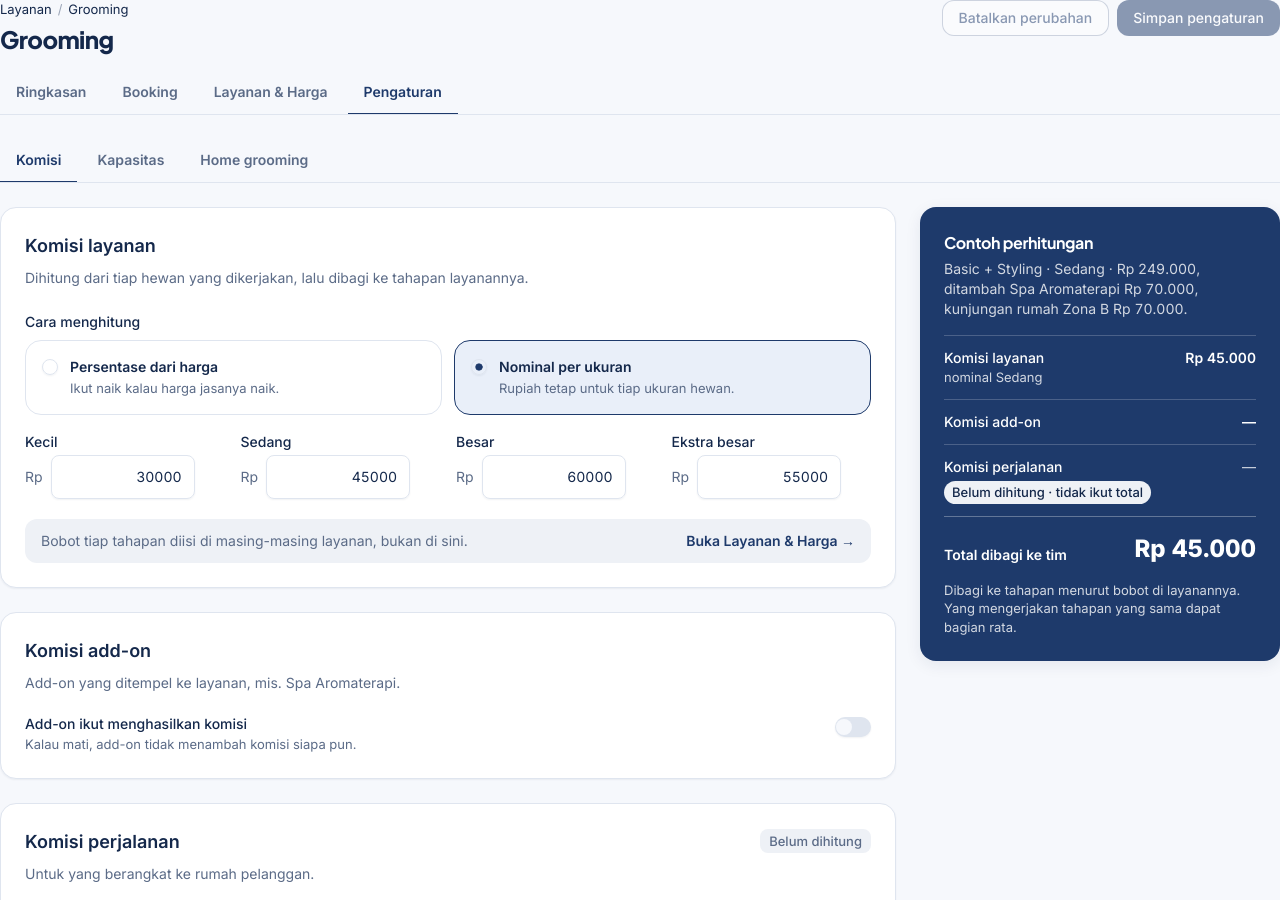
Test: GroomingSettingsScreen — Home grooming › points at the zone page when there is no zone yet
Click the tab "Home grooming" at (254, 161), box top-left (184, 139), bottom-right (324, 183)
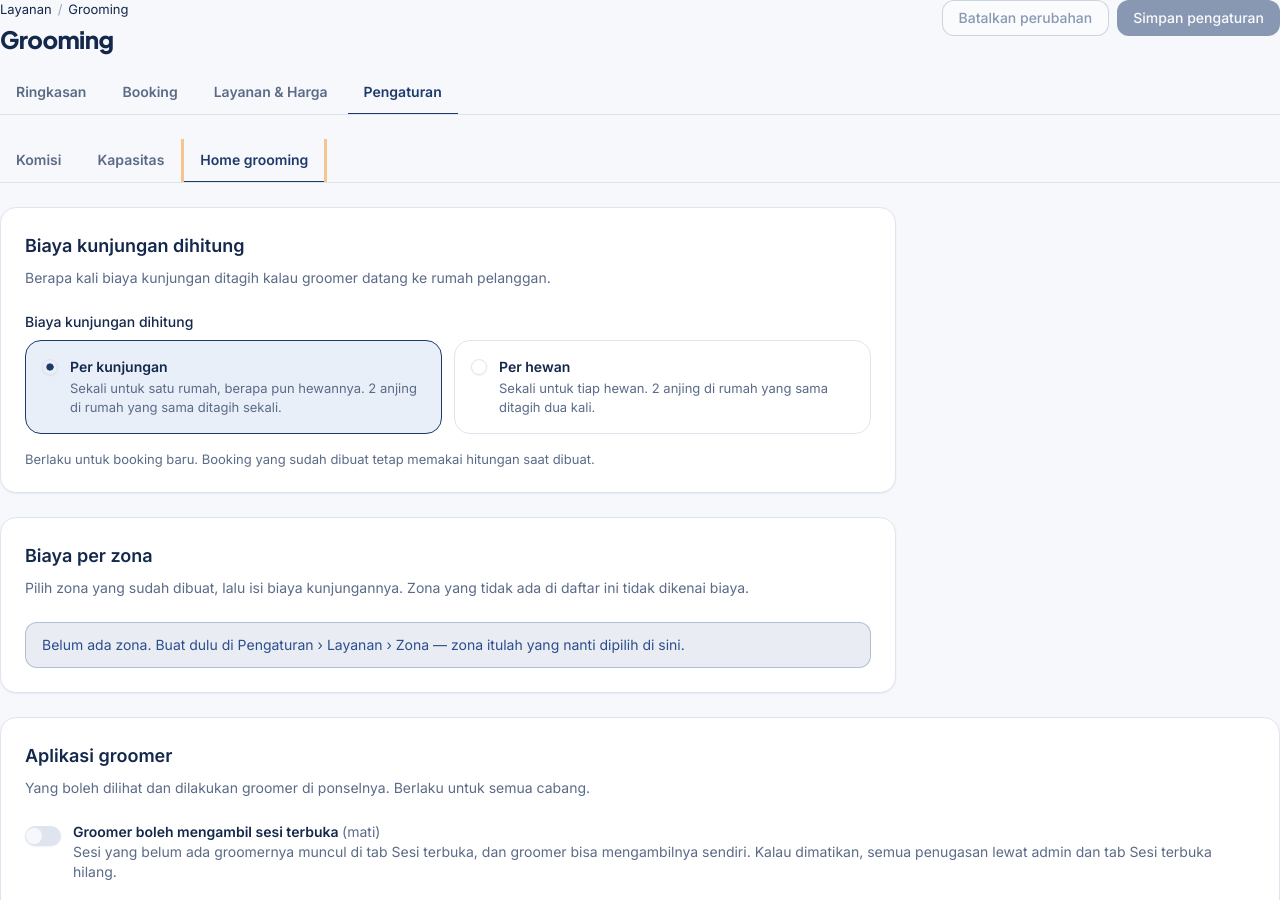
Now the text "Belum ada zona" is shown, box top-left (42, 636), bottom-right (685, 653)
